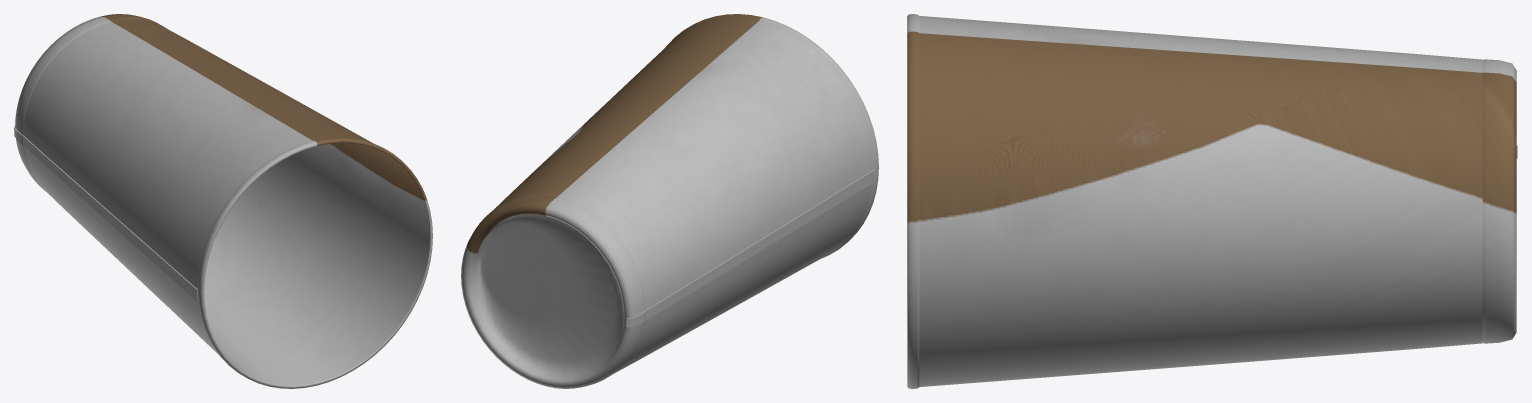
3 views of the same model, side by side, from view 1: azimuth 30°, elevation 25°; view 2: azimuth 150°, elevation 25°; view 3: azimuth 270°, elevation 25° (orthographic). The views are drawn at different scales.
Bounding box in the file's own units: 0.5984 × 0.5984 × 0.9741.
